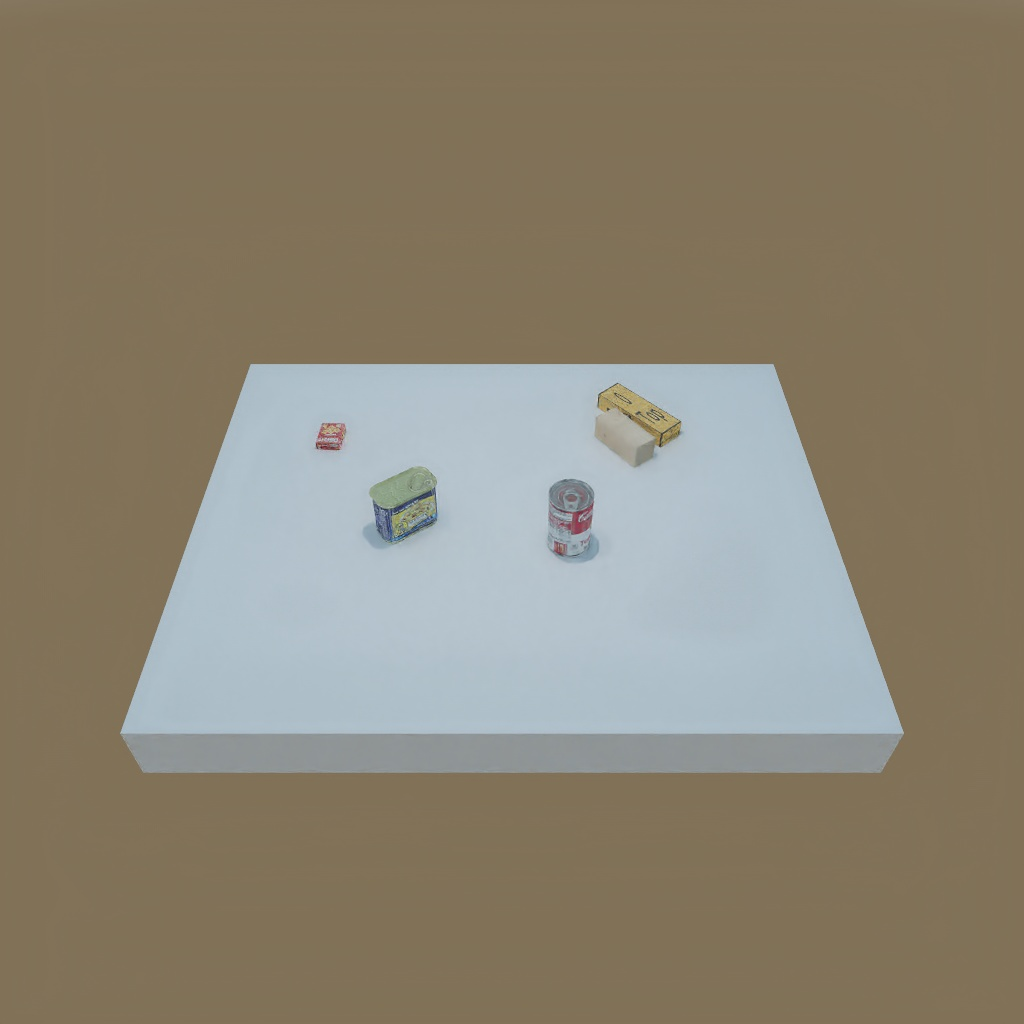jenga: (591, 381, 682, 445)
potted_meat_can: (369, 468, 436, 543)
tomato_soup_can: (544, 473, 601, 558)
wood_block: (588, 407, 654, 468)
